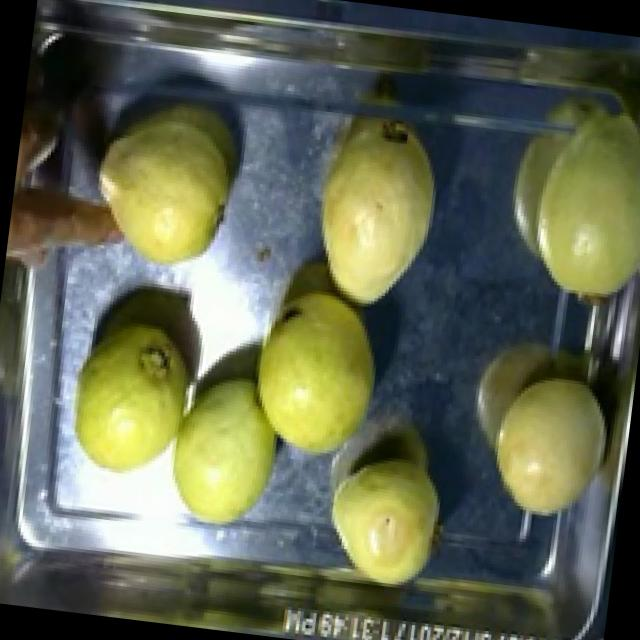Fruit: (42, 266, 224, 502), (65, 76, 258, 293), (486, 76, 640, 320), (292, 104, 454, 320), (232, 276, 394, 474), (146, 356, 297, 547), (473, 357, 630, 536), (307, 443, 461, 600)
